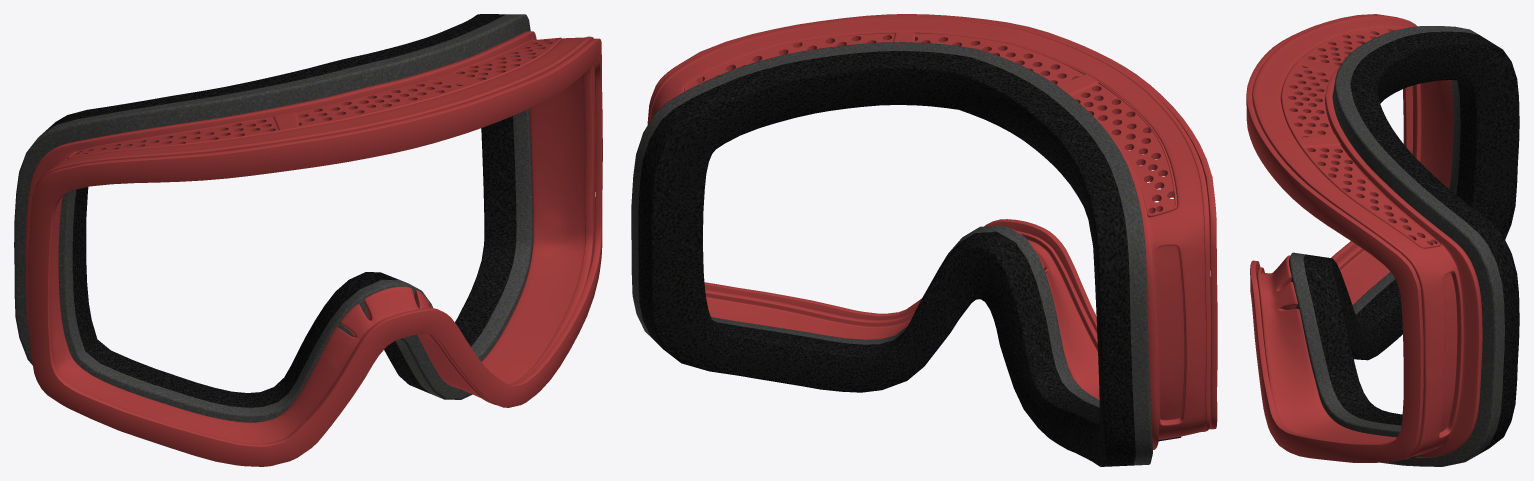
File: FRAME_Oxia_MOOX019_001.glb
The picture shows the model from 3 angles, left to right: view 1: azimuth 30°, elevation 25°; view 2: azimuth 150°, elevation 25°; view 3: azimuth 270°, elevation 25°; orthographic projection. The views are drawn at different scales.
Parts seen in each view (by area): view 1: Full_rim_geometry, Frame-Add_Frame-01_geometry_geometry; view 2: Frame-Add_Frame-01_geometry_geometry, Full_rim_geometry; view 3: Full_rim_geometry, Frame-Add_Frame-01_geometry_geometry.
Part boxes in pixels (box(x1,y1,x2,y2)): Full_rim_geometry: box(25, 31, 602, 466); Frame-Add_Frame-01_geometry_geometry: box(14, 14, 533, 422); Frame-Add_Frame-01_geometry_geometry: box(631, 42, 1181, 466); Full_rim_geometry: box(647, 14, 1217, 449); Full_rim_geometry: box(1246, 14, 1482, 462); Frame-Add_Frame-01_geometry_geometry: box(1289, 26, 1519, 466).
Bounding box in the file's own units: 0.1706 × 0.1003 × 0.0784.
1 material, 1 textured.
